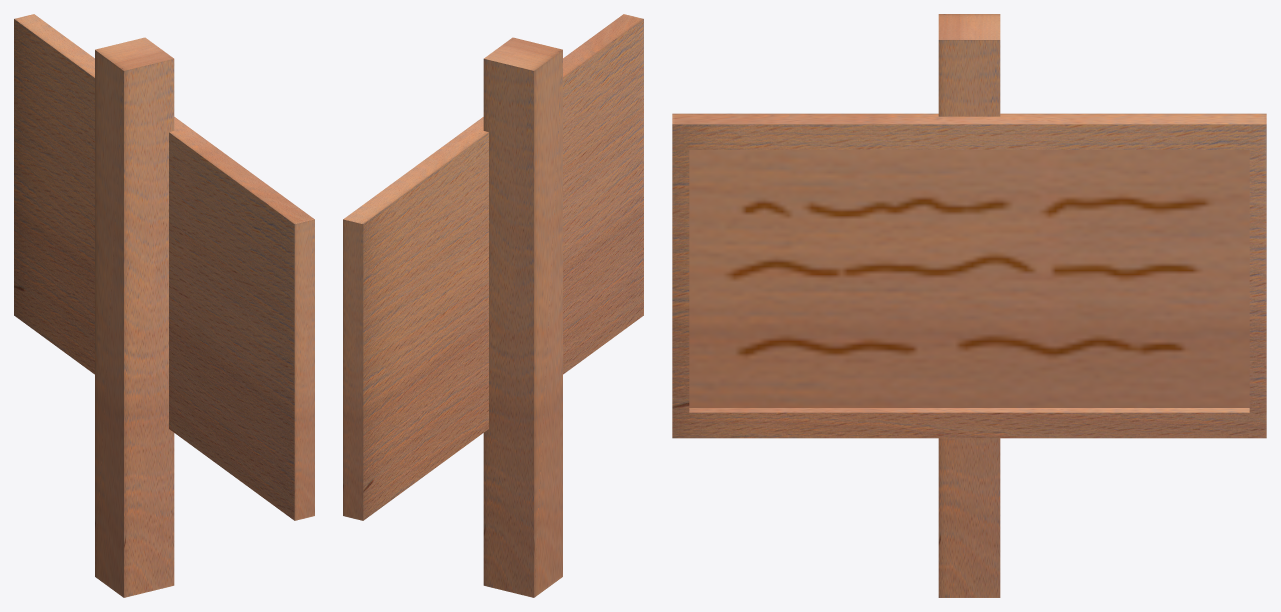
File: Board.fbx
3 views of the same model, side by side, from view 1: azimuth 30°, elevation 25°; view 2: azimuth 150°, elevation 25°; view 3: azimuth 270°, elevation 25° (orthographic). The views are drawn at different scales.
Parts seen in each view (by area): view 1: Box002, Box001; view 2: Box002, Box001; view 3: Box002, Box001.
Part boxes in pixels (x1=…): Box002: x1=14, y1=14, x2=314, y2=520; Box001: x1=95, y1=37, x2=174, y2=597; Box002: x1=343, y1=14, x2=643, y2=520; Box001: x1=483, y1=37, x2=562, y2=597; Box002: x1=672, y1=113, x2=1266, y2=438; Box001: x1=938, y1=14, x2=1000, y2=597.
Bounding box in the file's own units: 6.47 × 48.26 × 50.
Materials: 2 (2 with a texture image).
